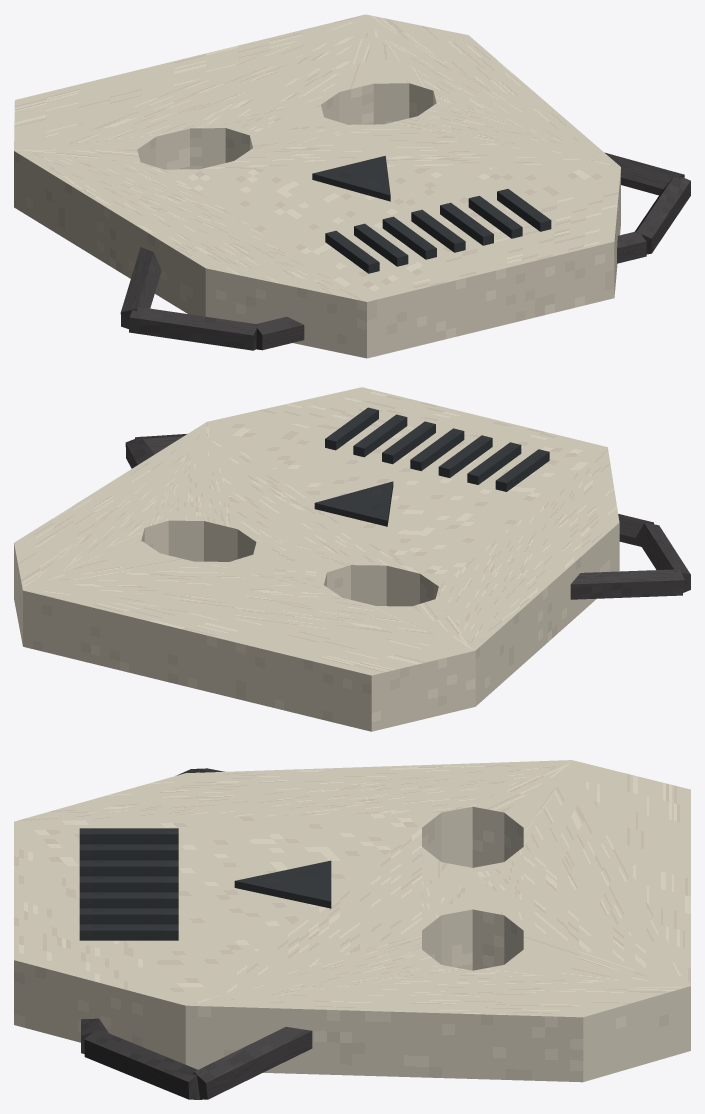
The model's file is mask_skull.glb.
The picture shows the model from 3 angles, top to bottom: view 1: azimuth 30°, elevation 25°; view 2: azimuth 150°, elevation 25°; view 3: azimuth 270°, elevation 25°; orthographic projection. The views are drawn at different scales.
Visible parts, largest first — view 1: block_molded character mask, block_sculpted tooth divider (×7), block_mask tie 1, block_skull nose opening shadow, block_mask tie 2, block_mask tie 3, block_mask tie 0, block_mask tie 4; view 2: block_molded character mask, block_sculpted tooth divider (×7), block_mask tie 0, block_skull nose opening shadow, block_mask tie 1, block_mask tie 2, block_mask tie 4; view 3: block_molded character mask, block_sculpted tooth divider (×7), block_mask tie 4, block_mask tie 3, block_skull nose opening shadow.
Part boxes in pixels (left/top/right/bottom): block_molded character mask: left=14, top=14, right=620, bottom=358; block_sculpted tooth divider (×7): left=325, top=189, right=551, bottom=273; block_mask tie 1: left=129, top=306, right=258, bottom=350; block_skull nose opening shadow: left=312, top=155, right=390, bottom=201; block_mask tie 2: left=254, top=231, right=646, bottom=350; block_mask tie 3: left=635, top=174, right=690, bottom=254; block_mask tie 0: left=120, top=247, right=161, bottom=328; block_mask tie 4: left=605, top=152, right=684, bottom=195; block_molded character mask: left=14, top=387, right=619, bottom=731; block_sculpted tooth divider (×7): left=325, top=407, right=549, bottom=491; block_mask tie 0: left=570, top=569, right=684, bottom=599; block_skull nose opening shadow: left=314, top=481, right=393, bottom=526; block_mask tie 1: left=636, top=522, right=690, bottom=595; block_mask tie 2: left=618, top=514, right=653, bottom=546; block_mask tie 4: left=125, top=436, right=154, bottom=468; block_molded character mask: left=14, top=760, right=690, bottom=1082; block_sculpted tooth divider (×7): left=79, top=828, right=178, bottom=940; block_mask tie 4: left=193, top=1027, right=312, bottom=1099; block_mask tie 3: left=84, top=1028, right=202, bottom=1099; block_skull nose opening shadow: left=234, top=860, right=331, bottom=908.
Size of the model in its own units: 0.2181 by 0.0242 by 0.1978.
1 material, 1 textured.
